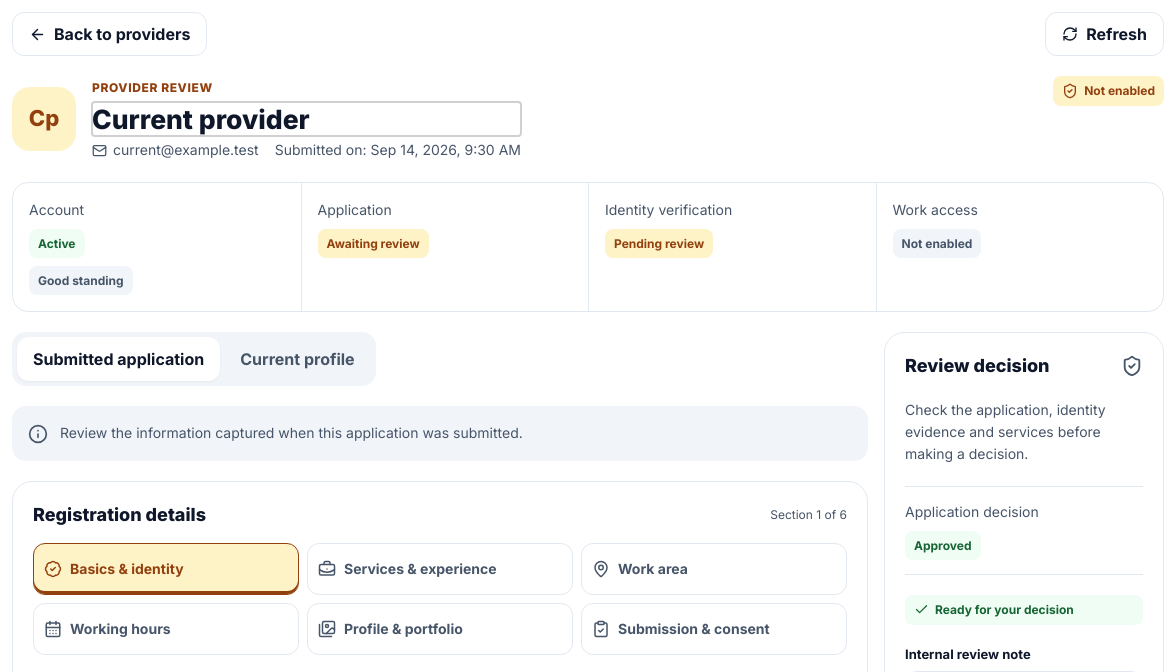
Admin application dossier › keeps a recorded decision authoritative and does not invent a pending decision without a submission
Expected: the heading "Current provider" is shown, [92,103,310,135]
What coordinates should you click on to do the following:
click the button with test id "review-refresh"
I would click on:
 (1105, 34)
Its box is [1045,12,1164,56].
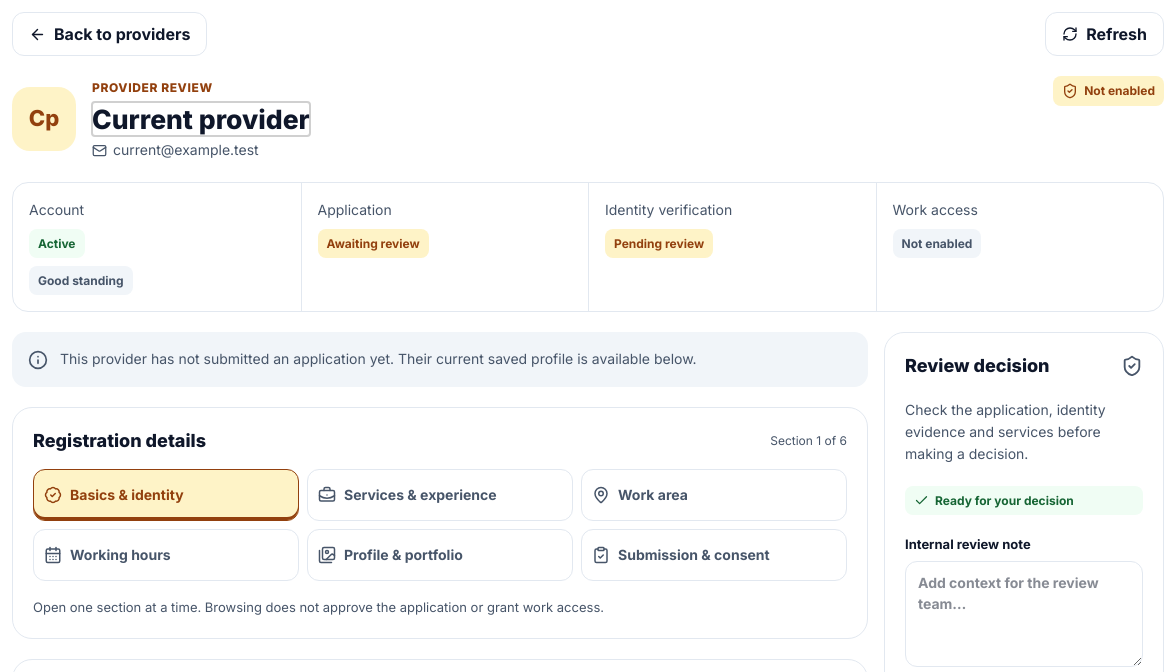
Expected: the text "This provider has not submitted an application yet. Their current saved profile is available below." is shown, [60,350,697,367]
